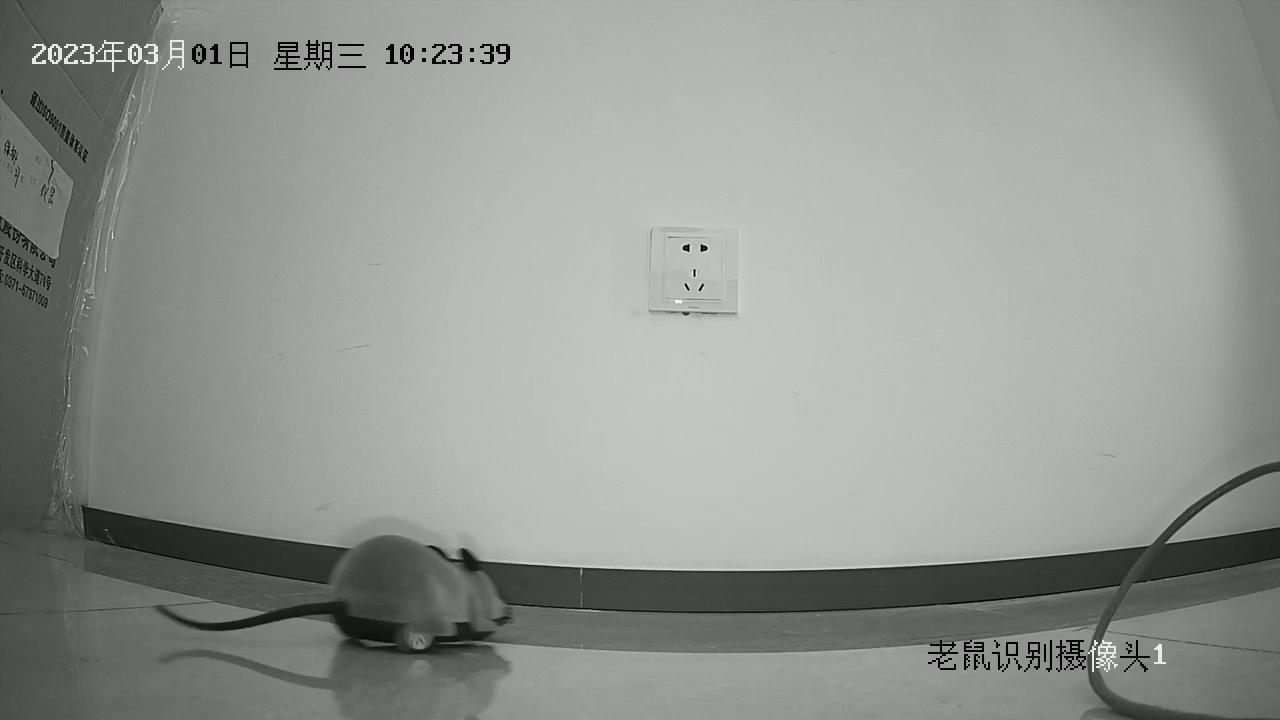rat: (157, 534, 512, 655)
